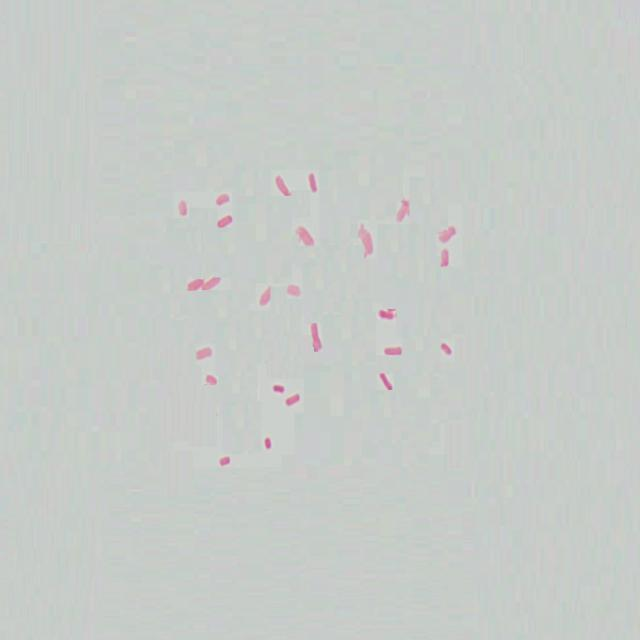E-coli: (357, 222, 375, 256), (307, 320, 324, 353), (435, 223, 457, 246), (213, 211, 235, 232), (274, 172, 289, 202), (295, 223, 312, 249), (284, 281, 302, 304), (395, 199, 408, 229), (258, 285, 274, 309), (305, 168, 320, 193), (185, 276, 202, 298), (377, 370, 393, 393), (194, 343, 212, 363), (203, 371, 219, 393), (211, 188, 228, 208), (381, 344, 405, 357), (204, 275, 221, 293), (217, 454, 235, 469), (440, 338, 452, 359), (376, 307, 394, 321), (439, 247, 452, 266), (286, 394, 302, 409), (261, 435, 276, 451), (178, 197, 187, 219), (272, 382, 285, 397)
